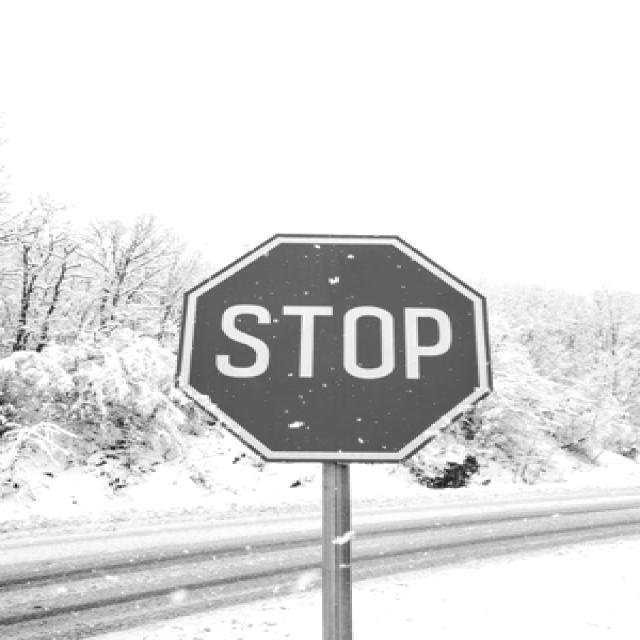Stop-signs: (175, 232, 495, 464)
